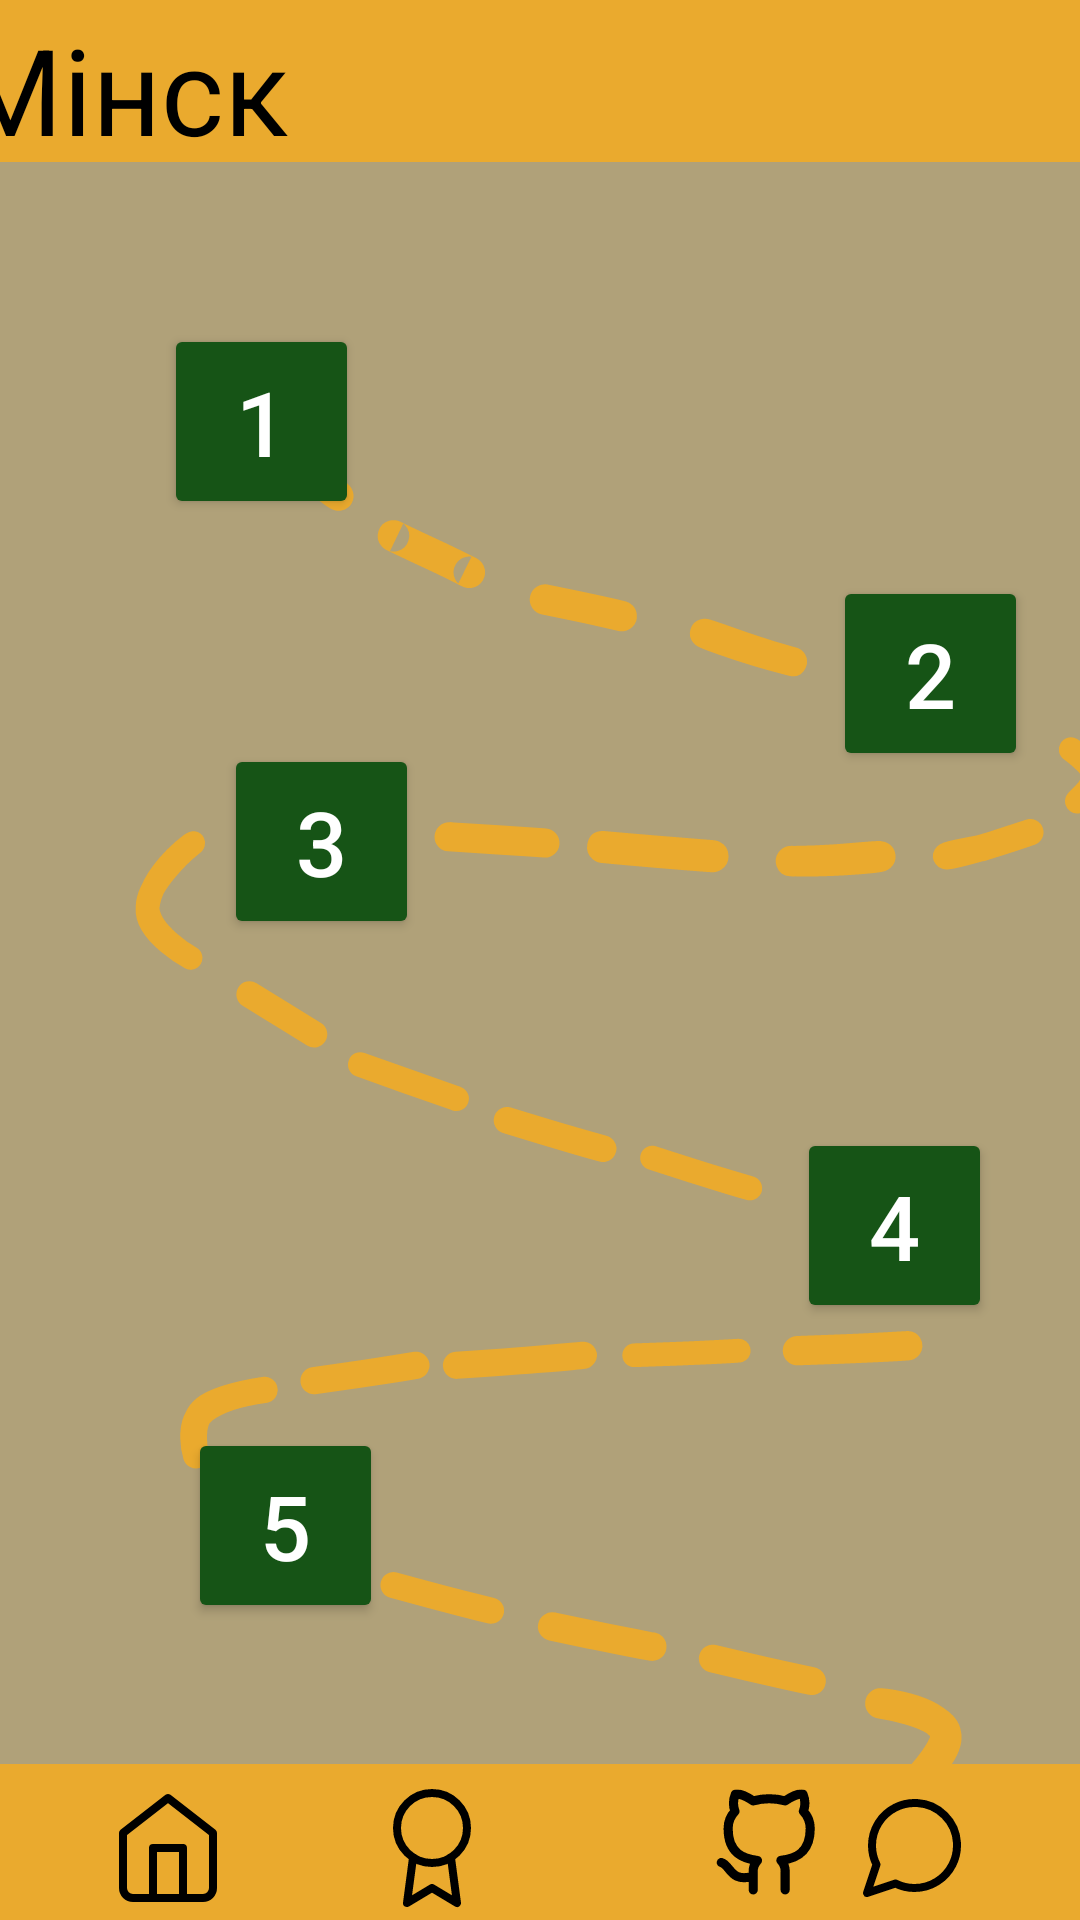

Where icons sit on this 1080*1920 app screen, as (x1, y1, x2, y2):
award: (393, 1789, 471, 1908)
home: (119, 1794, 217, 1902)
message circle: (863, 1799, 961, 1897)
